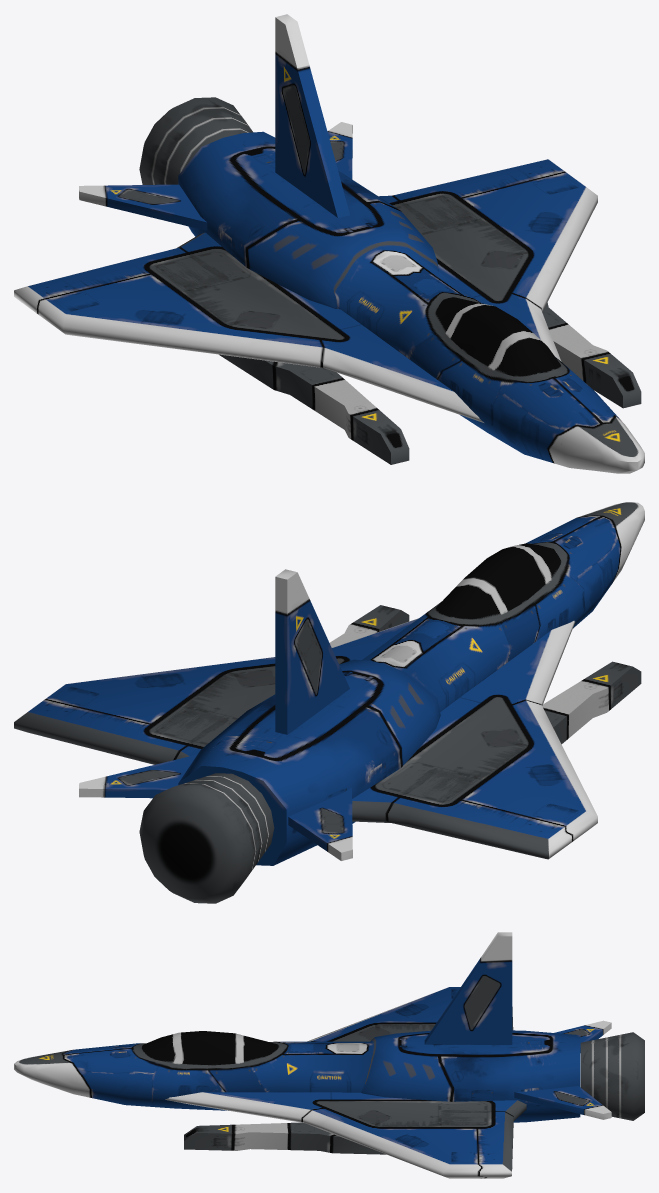
File: StarSparrow_finale.fbx
3 renders of one model, top to bottom at view 1: azimuth 30°, elevation 25°; view 2: azimuth 150°, elevation 25°; view 3: azimuth 270°, elevation 25°, orthographic. The views are drawn at different scales.
Parts seen in each view (by area): view 1: StarSparrow_Wing, StarSparrow_Core, StarSparrow_Weapon, StarSparrow_Wing_2, StarSparrow_Thruster, StarSparrow_Wing_1; view 2: StarSparrow_Wing, StarSparrow_Core, StarSparrow_Thruster, StarSparrow_Wing_2, StarSparrow_Wing_1, StarSparrow_Weapon; view 3: StarSparrow_Core, StarSparrow_Wing, StarSparrow_Wing_2, StarSparrow_Thruster, StarSparrow_Weapon, StarSparrow_Wing_1.
Boxes of the visible parts, <box> form: StarSparrow_Wing: <box>14,159,597,422</box>; StarSparrow_Core: <box>178,131,644,473</box>; StarSparrow_Weapon: <box>219,302,641,464</box>; StarSparrow_Wing_2: <box>275,14,349,217</box>; StarSparrow_Thruster: <box>139,97,252,184</box>; StarSparrow_Wing_1: <box>79,122,352,230</box>; StarSparrow_Wing: <box>14,618,597,859</box>; StarSparrow_Core: <box>178,502,644,865</box>; StarSparrow_Thruster: <box>139,773,274,903</box>; StarSparrow_Wing_2: <box>275,569,349,734</box>; StarSparrow_Wing_1: <box>79,754,352,860</box>; StarSparrow_Weapon: <box>329,605,641,744</box>; StarSparrow_Core: <box>14,1030,580,1122</box>; StarSparrow_Wing: <box>165,987,526,1178</box>; StarSparrow_Wing_2: <box>424,932,512,1044</box>; StarSparrow_Thruster: <box>580,1032,644,1120</box>; StarSparrow_Weapon: <box>184,1122,385,1154</box>; StarSparrow_Wing_1: <box>514,1020,611,1119</box>.
Bounding box in the file's own units: 746 × 348 × 1090.
1 material, 1 textured.
